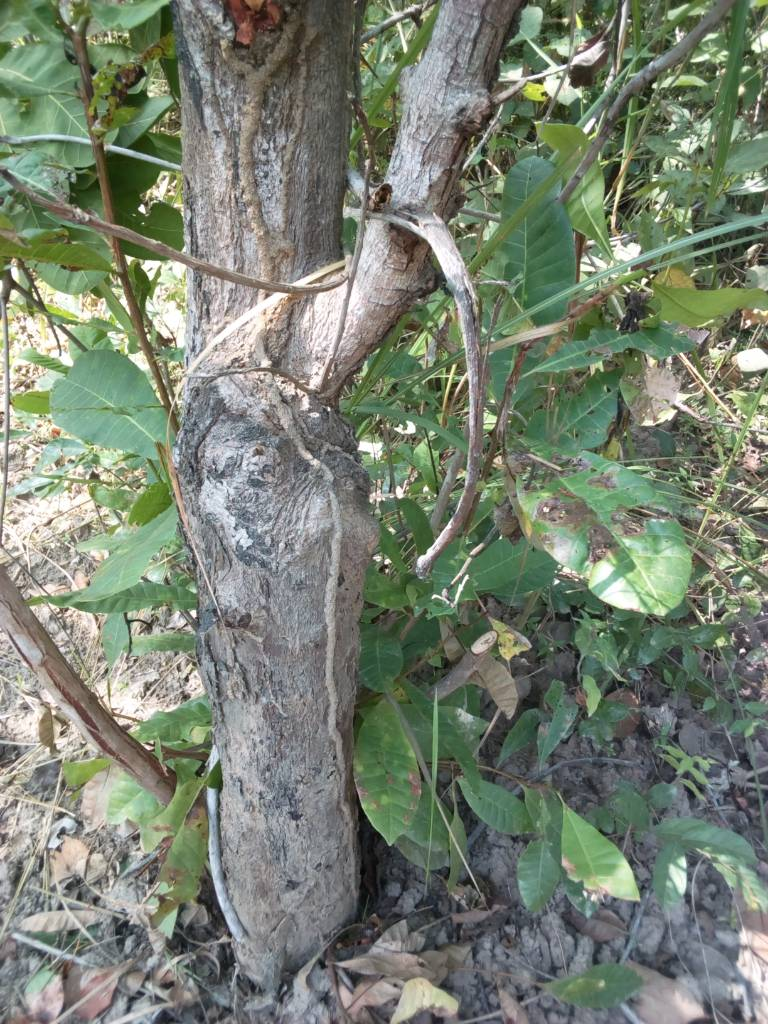Termites: (211, 417, 355, 935), (224, 35, 304, 277)
